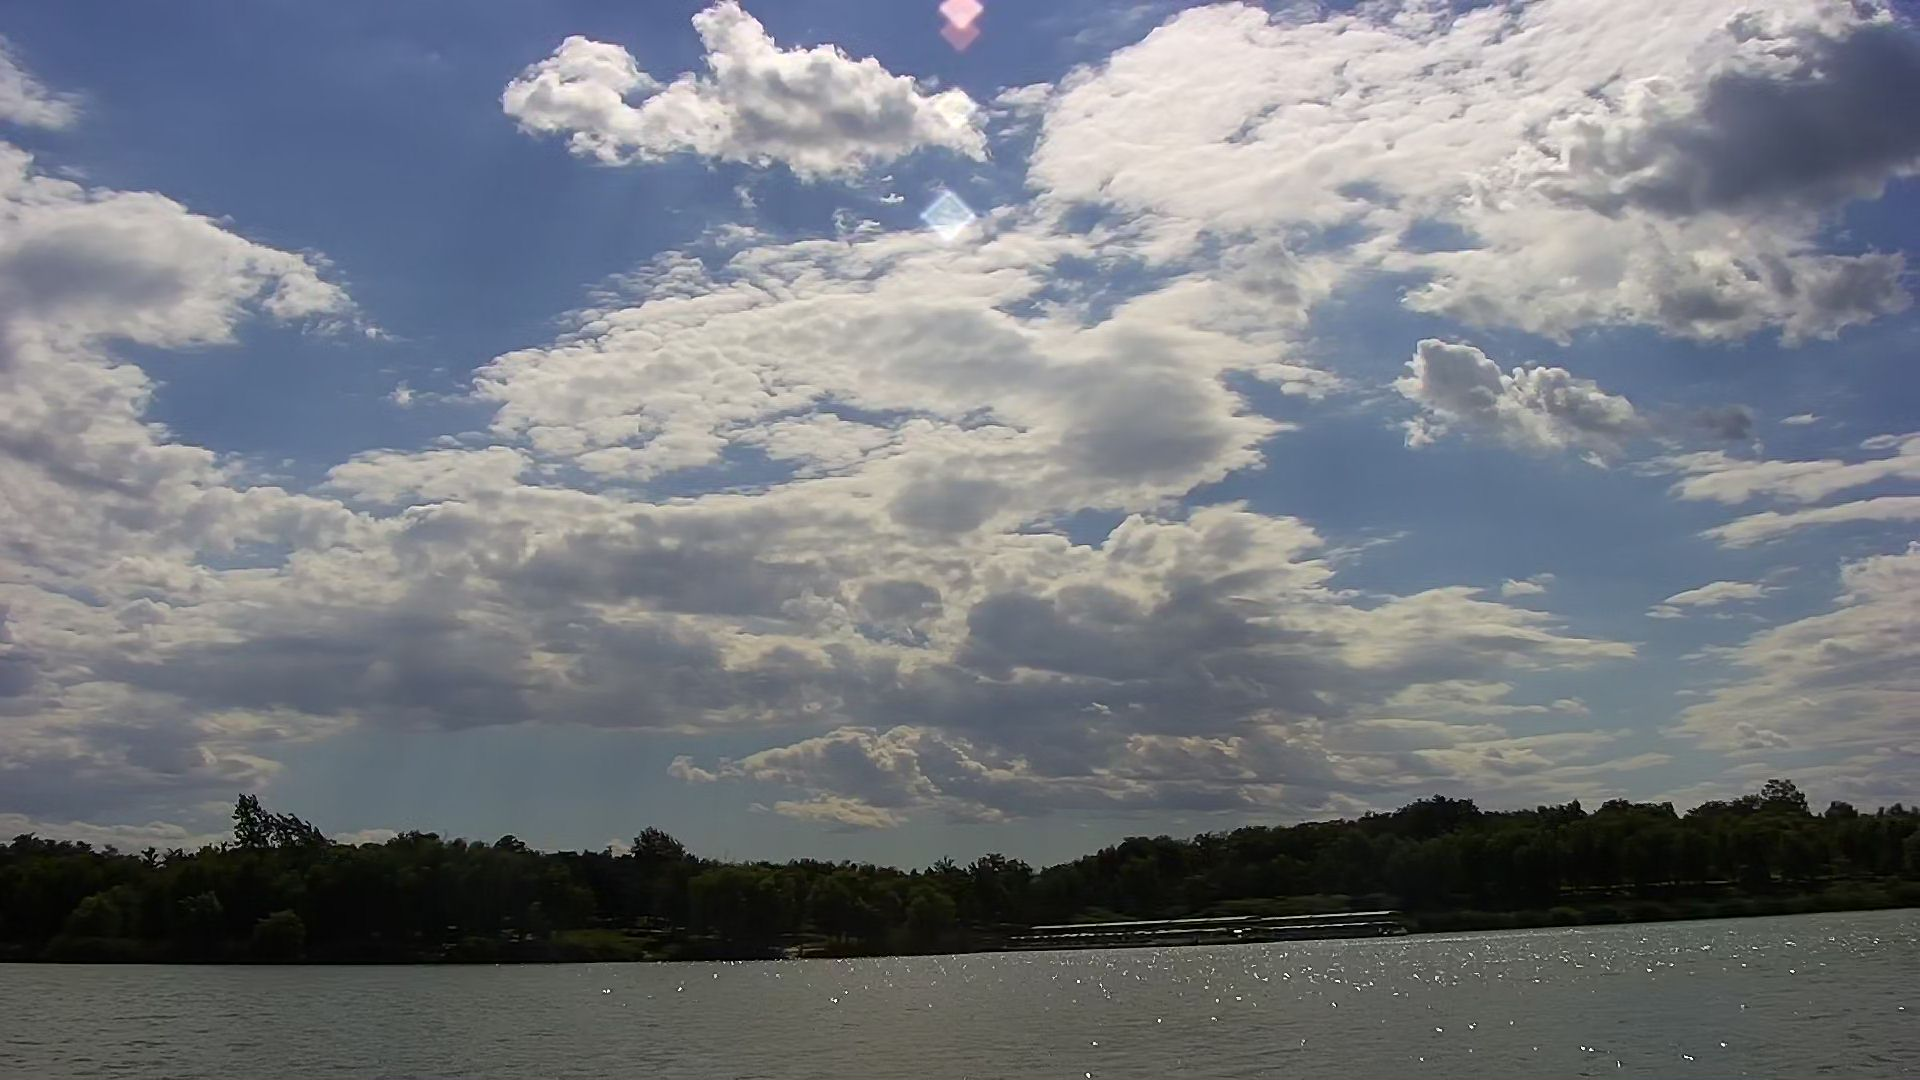harbor: (993, 905, 1415, 965)
